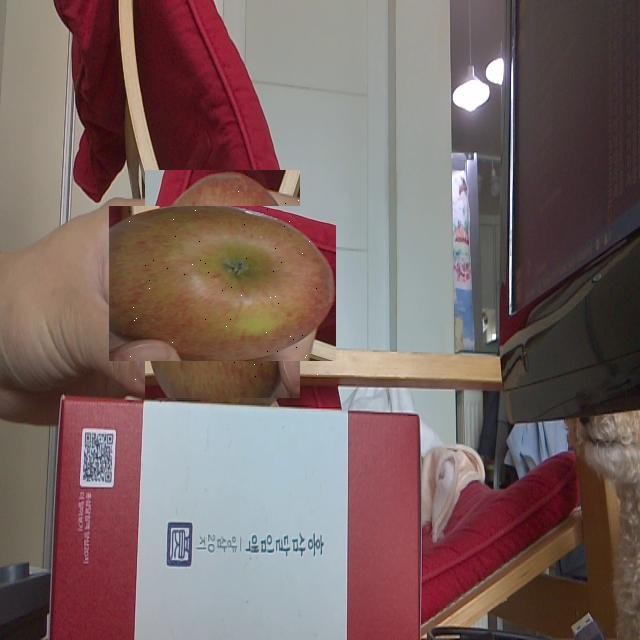apple: (127, 188, 318, 380)
